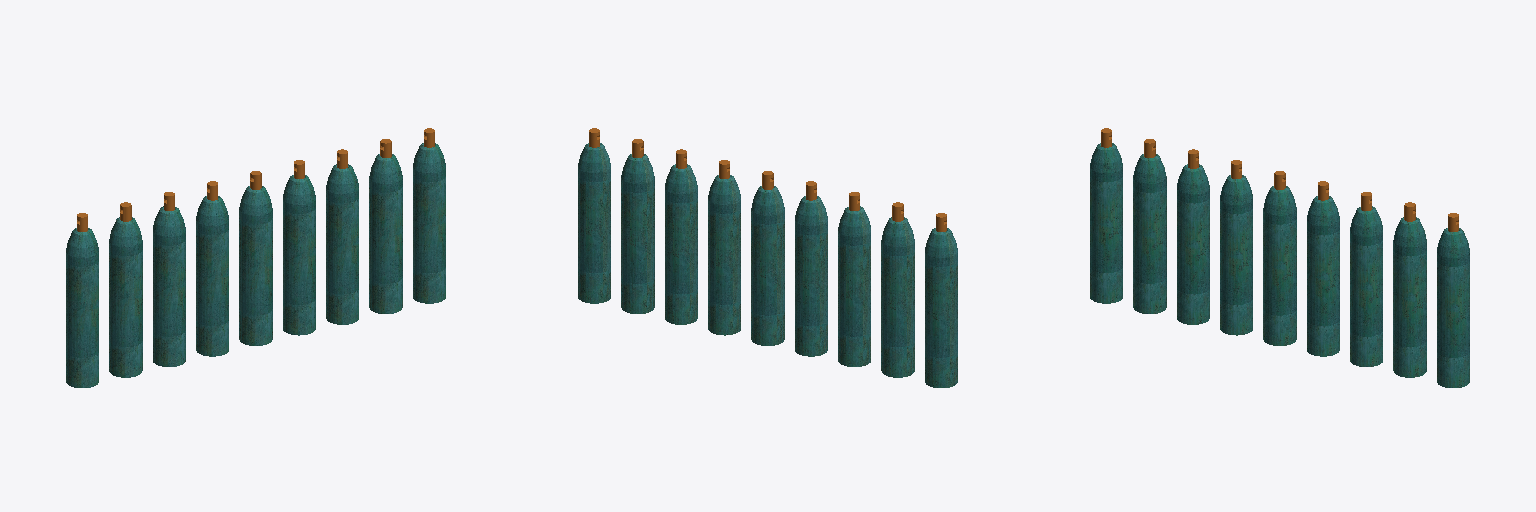
3 views of the same model, side by side, from view 1: azimuth 30°, elevation 25°; view 2: azimuth 150°, elevation 25°; view 3: azimuth 330°, elevation 25° (orthographic).
Parts seen in each view (by area): view 1: tanqueOxigeno.002; view 2: tanqueOxigeno.002; view 3: tanqueOxigeno.002.
Boxes of the visible parts, <box> form: tanqueOxigeno.002: <box>66,128,445,387</box>; tanqueOxigeno.002: <box>578,128,957,387</box>; tanqueOxigeno.002: <box>1090,128,1469,387</box>.
Bounding box in the file's own units: 22.75 × 9.61 × 1.75.
Materials: 3 (2 with a texture image).